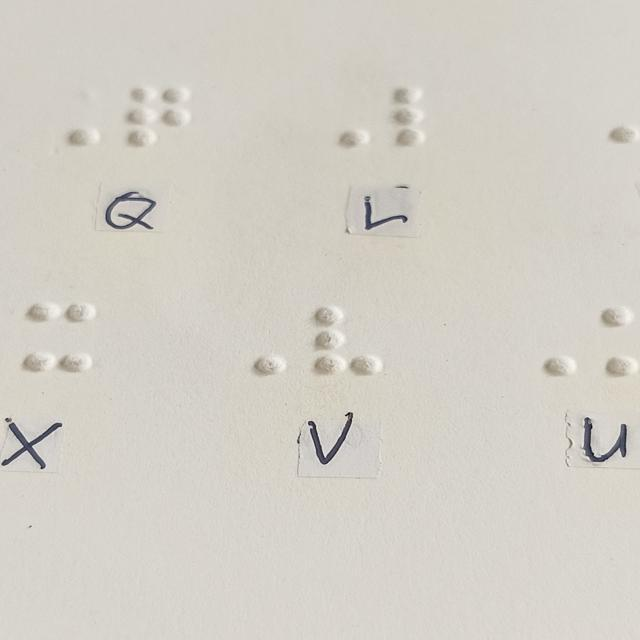capital_sign: (223, 307, 289, 377), (37, 85, 100, 147), (309, 85, 372, 146)
letter_L: (391, 85, 454, 146)
letter_Q: (129, 85, 192, 146)
letter_V: (315, 306, 382, 376)
letter_x: (25, 302, 96, 371)
